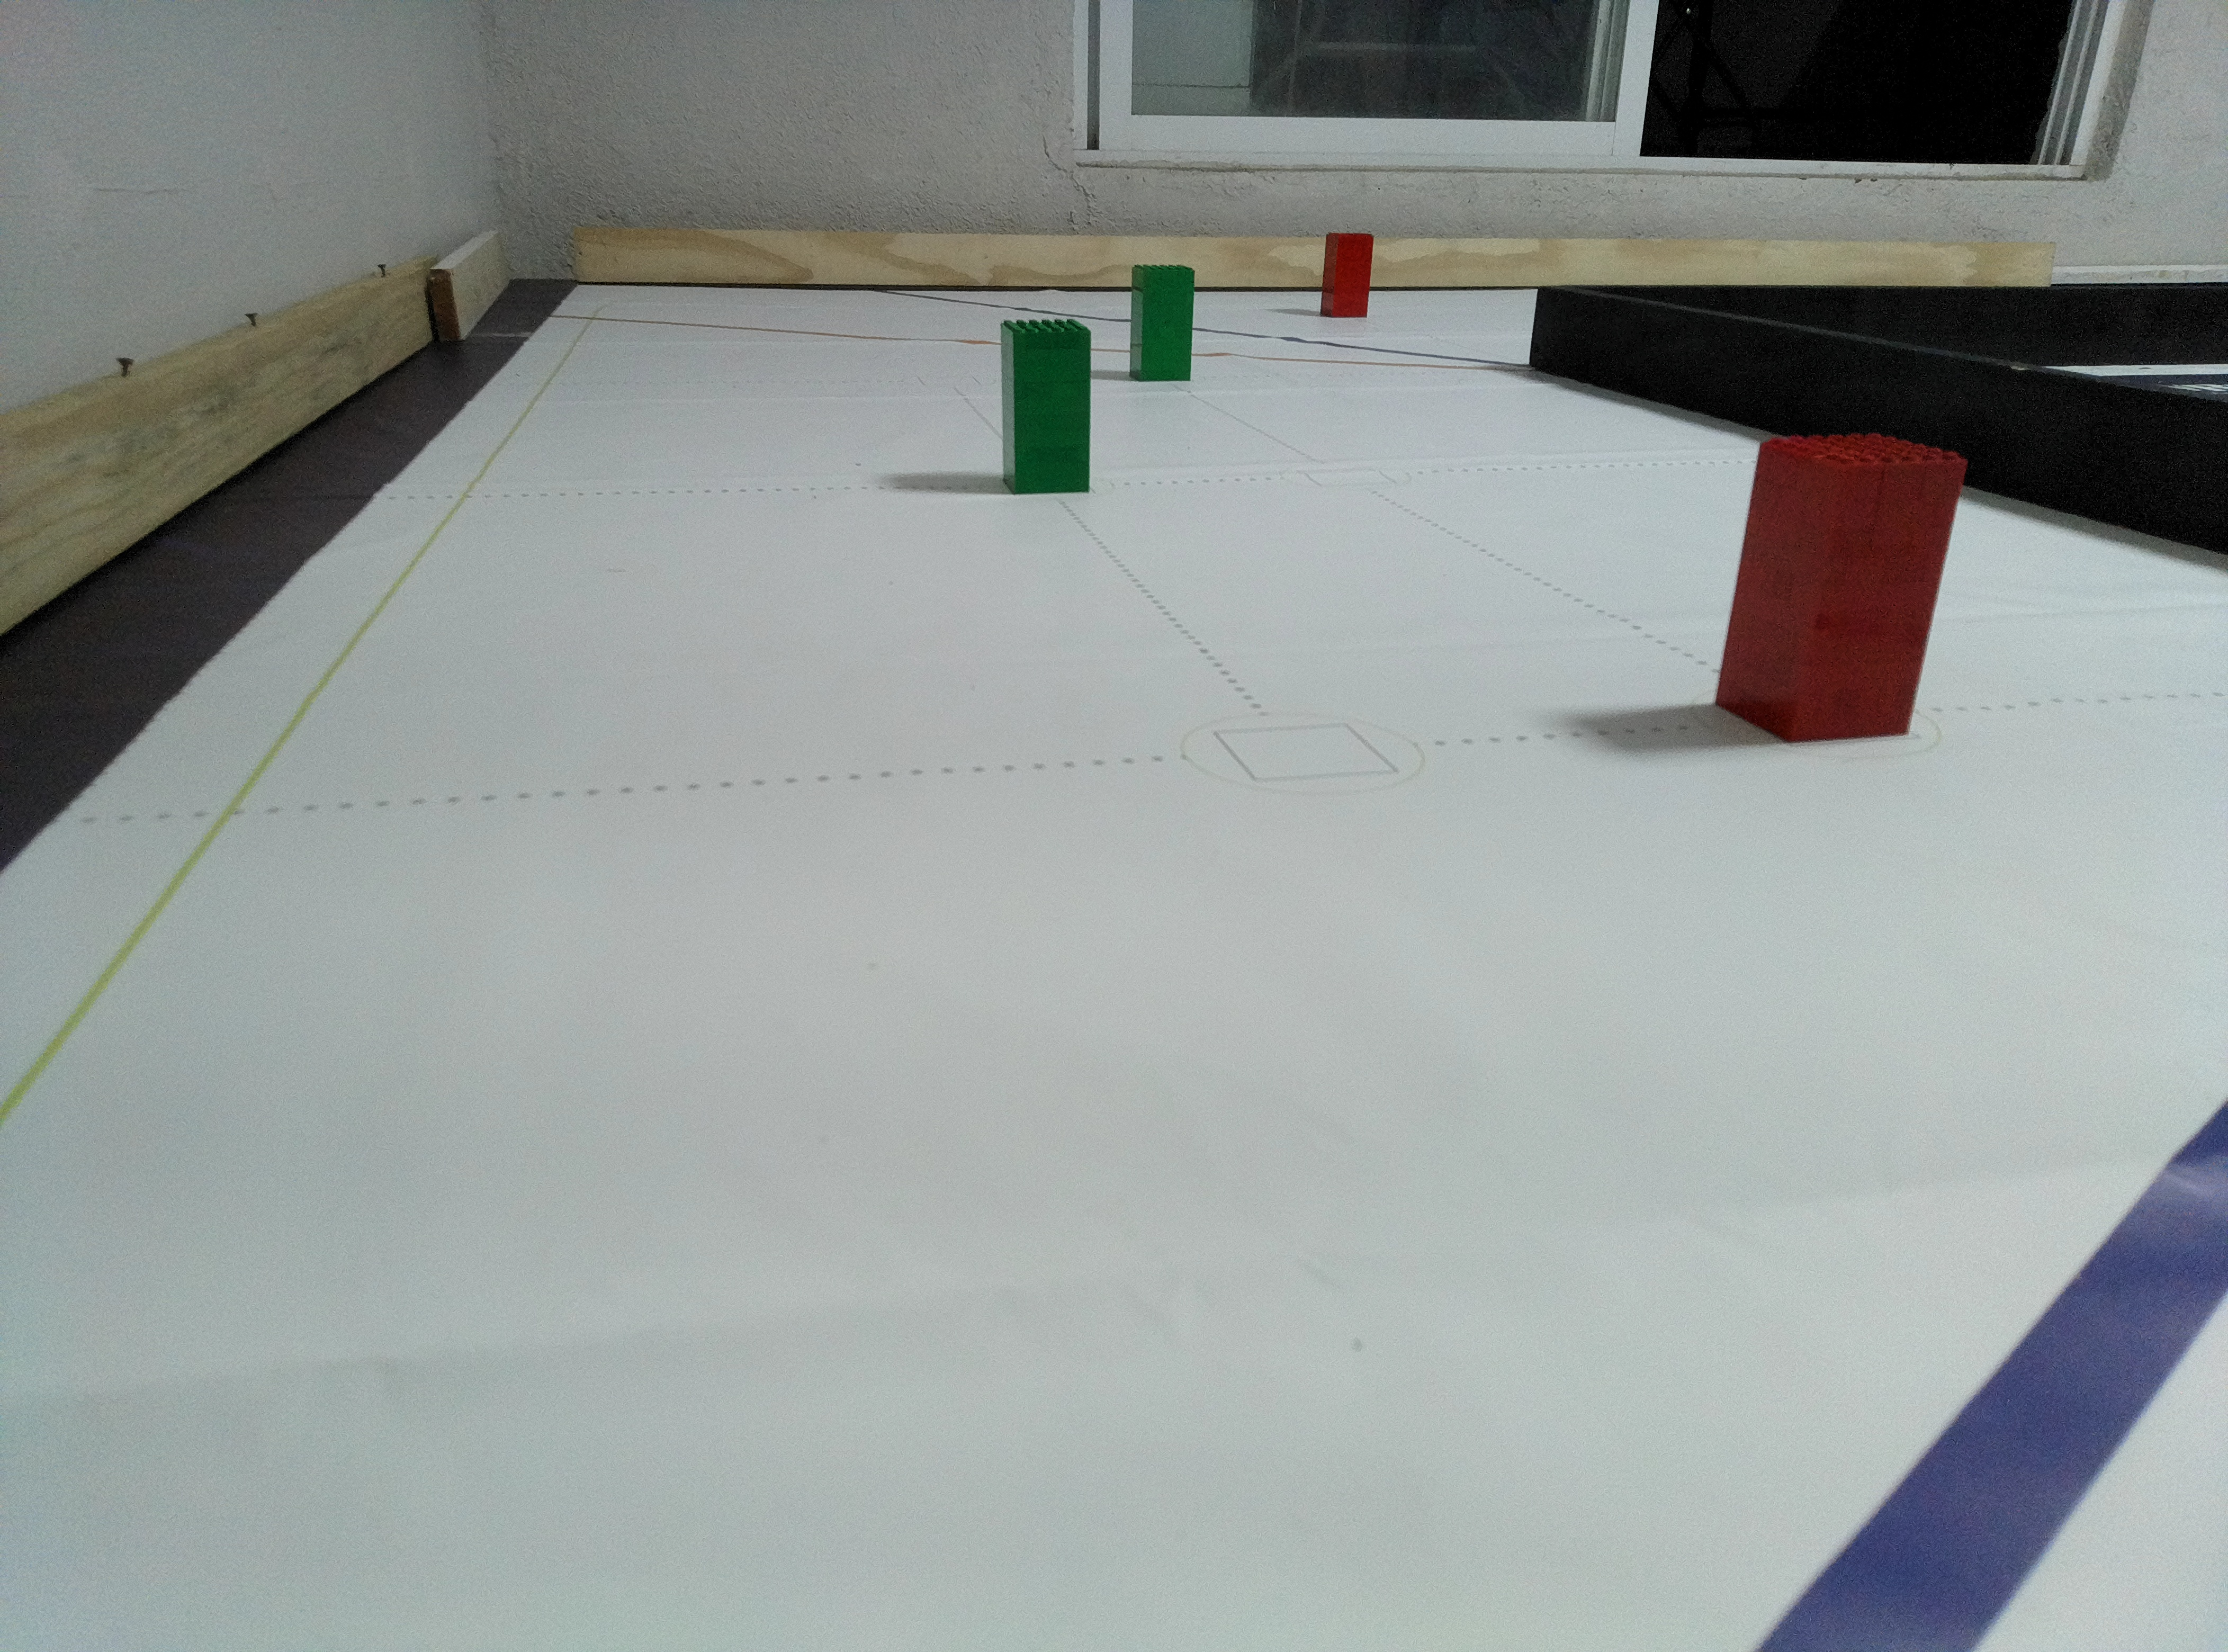greenbox: (998, 318, 1090, 496), (1128, 264, 1196, 382)
redbox: (1718, 430, 1969, 744), (1319, 233, 1374, 318)
